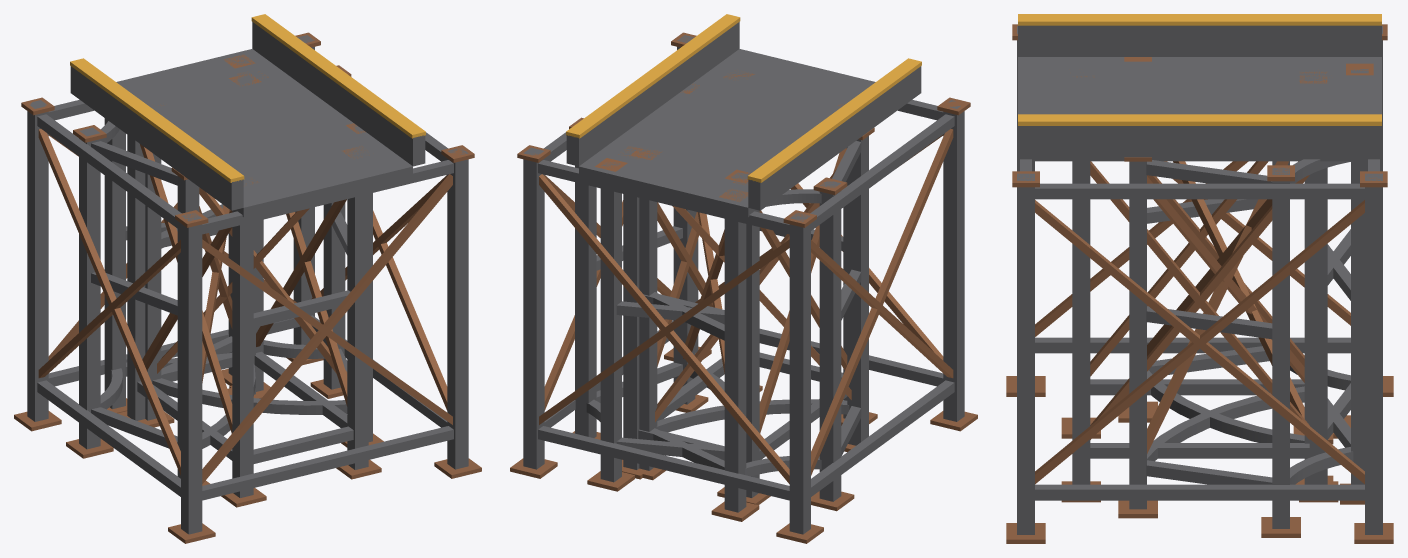
Rendered from feConveyorStand.fbx.
3 views of the same model, side by side, from view 1: azimuth 30°, elevation 25°; view 2: azimuth 150°, elevation 25°; view 3: azimuth 270°, elevation 25° (orthographic). The views are drawn at different scales.
Parts seen in each view (by area): view 1: FeStand_Junction, FeStand_Duct, FeStand_Straight, FeStand_Curve_R, FeStand_Curve_L; view 2: FeStand_Junction, FeStand_Duct, FeStand_Curve_R, FeStand_Curve_L, FeStand_Straight; view 3: FeStand_Duct, FeStand_Junction, FeStand_Curve_L, FeStand_Straight, FeStand_Curve_R.
Boxes of the visible parts, box(x1,y1,x2,y2) form: FeStand_Junction: box(14, 32, 481, 543); FeStand_Duct: box(70, 14, 425, 217); FeStand_Straight: box(117, 71, 381, 507); FeStand_Curve_R: box(66, 73, 264, 485); FeStand_Curve_L: box(145, 54, 383, 447); FeStand_Junction: box(510, 32, 977, 543); FeStand_Duct: box(566, 14, 921, 217); FeStand_Curve_R: box(630, 127, 874, 521); FeStand_Curve_L: box(569, 83, 750, 499); FeStand_Straight: box(618, 70, 877, 505); FeStand_Duct: box(1018, 14, 1381, 161); FeStand_Junction: box(1006, 24, 1393, 543); FeStand_Curve_L: box(1118, 71, 1367, 537); FeStand_Straight: box(1061, 72, 1338, 502); FeStand_Curve_R: box(1118, 57, 1373, 484).
Bounding box in the file's own units: 0.98 × 1.1 × 0.98.
